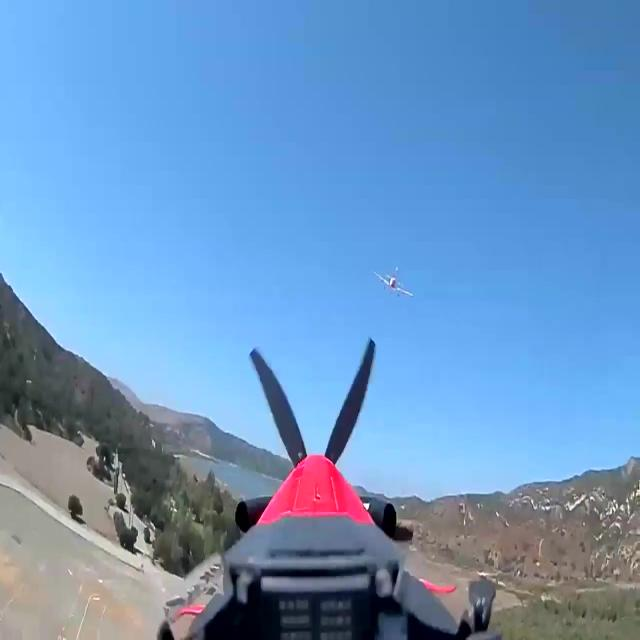iha: (365, 266, 408, 301)
